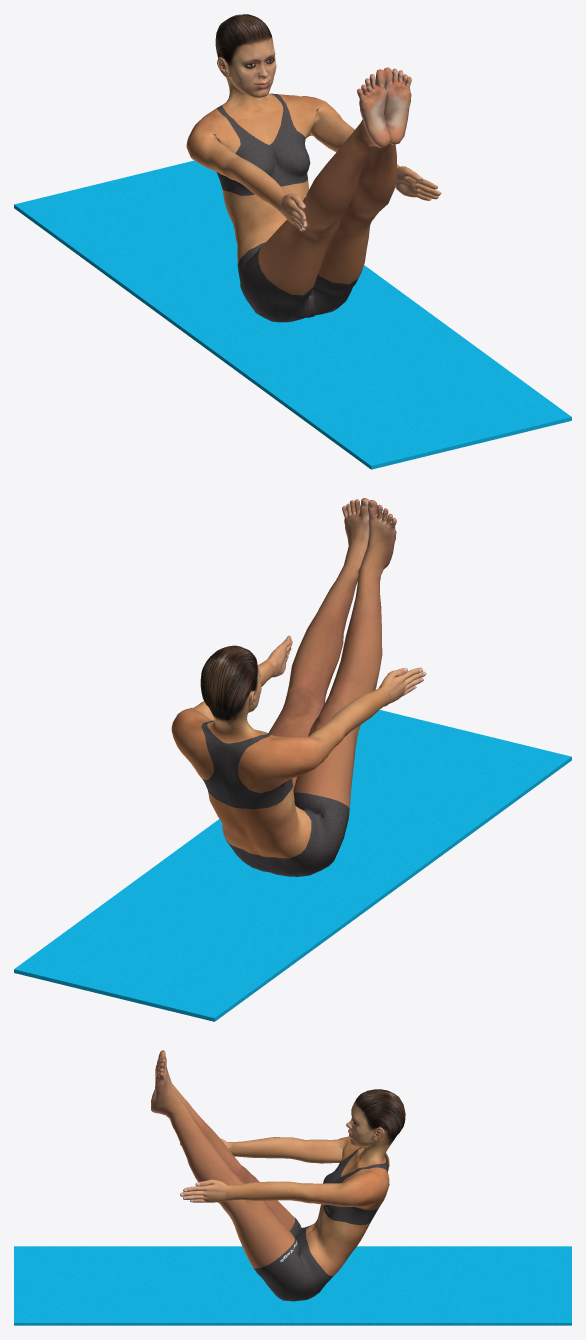
Rendered from navasana.glb.
3 renders of one model, top to bottom at view 1: azimuth 30°, elevation 25°; view 2: azimuth 150°, elevation 25°; view 3: azimuth 270°, elevation 25°, orthographic. The views are drawn at different scales.
Parts seen in each view (by area): view 1: Mat-one-piece_jpg-material, Lily_Texture01_06_2016_jpg-material; view 2: Mat-one-piece_jpg-material, Lily_Texture01_06_2016_jpg-material; view 3: Mat-one-piece_jpg-material, Lily_Texture01_06_2016_jpg-material.
Boxes of the visible parts, left/top/right/bottom form: Mat-one-piece_jpg-material: left=14, top=160, right=571, bottom=469; Lily_Texture01_06_2016_jpg-material: left=186, top=14, right=441, bottom=322; Mat-one-piece_jpg-material: left=14, top=710, right=571, bottom=1021; Lily_Texture01_06_2016_jpg-material: left=171, top=498, right=426, bottom=876; Mat-one-piece_jpg-material: left=14, top=1246, right=571, bottom=1325; Lily_Texture01_06_2016_jpg-material: left=151, top=1050, right=405, bottom=1301.
Size of the model in its own units: 2 by 2.9 by 6.17.
3 materials, 2 textured.
